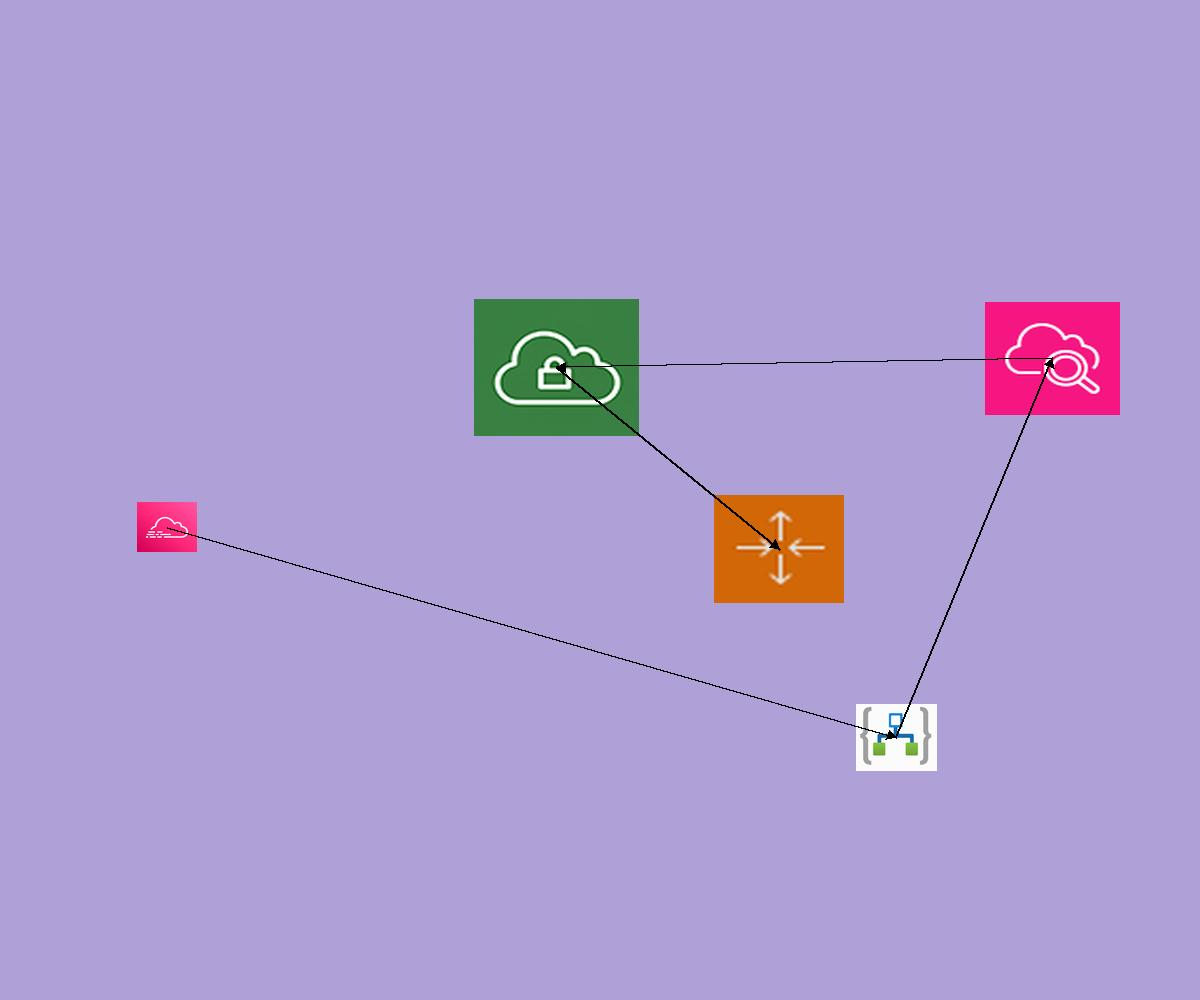AWS-CloudTrail: (137, 502, 197, 552)
AWS-CloudWatch: (985, 302, 1120, 415)
AWS-Private_vpc: (474, 299, 639, 436)
AWS-Scaling-group: (714, 495, 844, 603)
Azure_integration-204-Logic-Apps: (856, 704, 937, 771)
